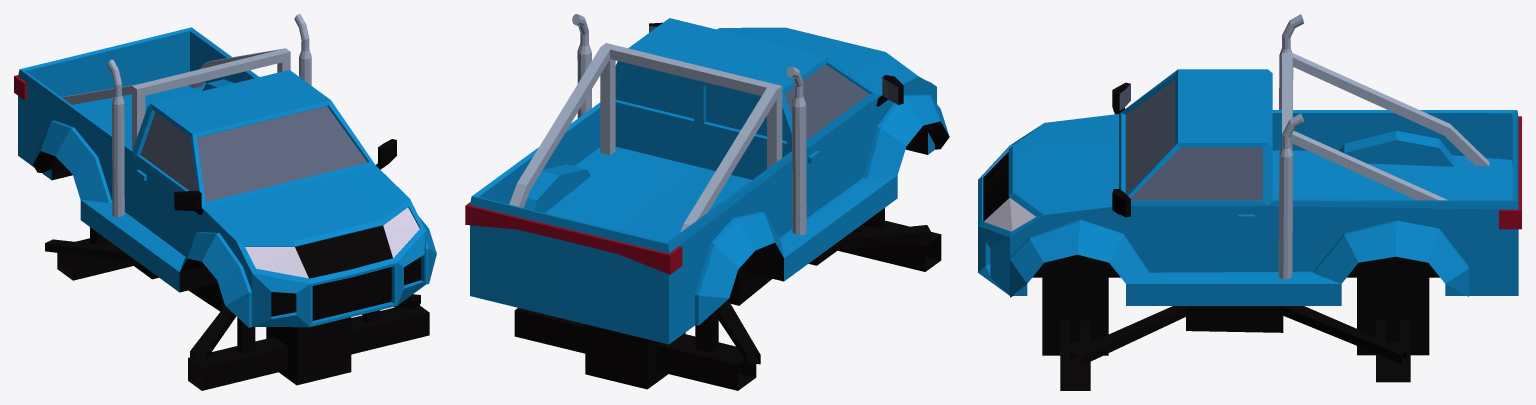
The model's file is body.glb.
3 renders of one model, left to right at view 1: azimuth 30°, elevation 25°; view 2: azimuth 150°, elevation 25°; view 3: azimuth 270°, elevation 25°, orthographic. The views are drawn at different scales.
Visible parts, largest first — view 1: Monster Truck; view 2: Monster Truck; view 3: Monster Truck.
Boxes of the visible parts, x1,y1,x2,y2 form: Monster Truck: [14, 14, 436, 390]; Monster Truck: [465, 14, 949, 390]; Monster Truck: [978, 14, 1521, 390].
Bounding box in the file's own units: 2.93 × 3.09 × 5.49.
